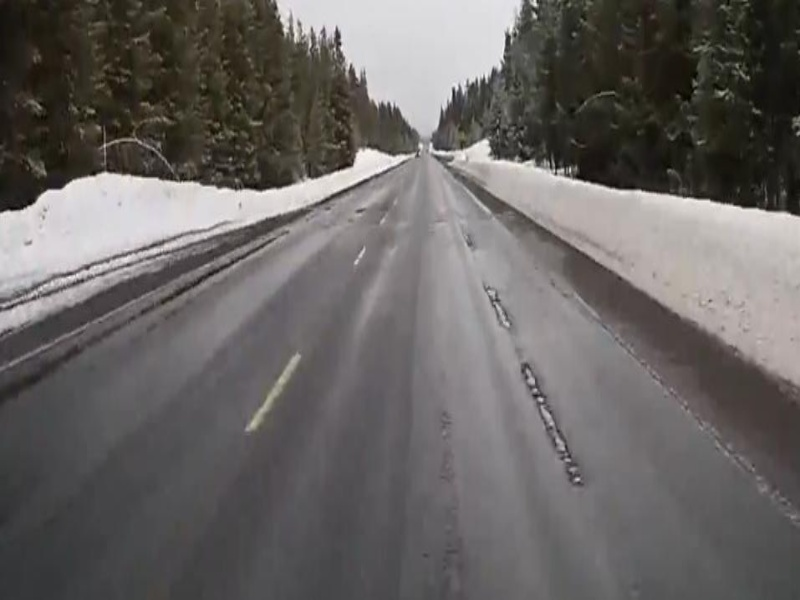pothole: (516, 359, 583, 496), (483, 278, 510, 334)
